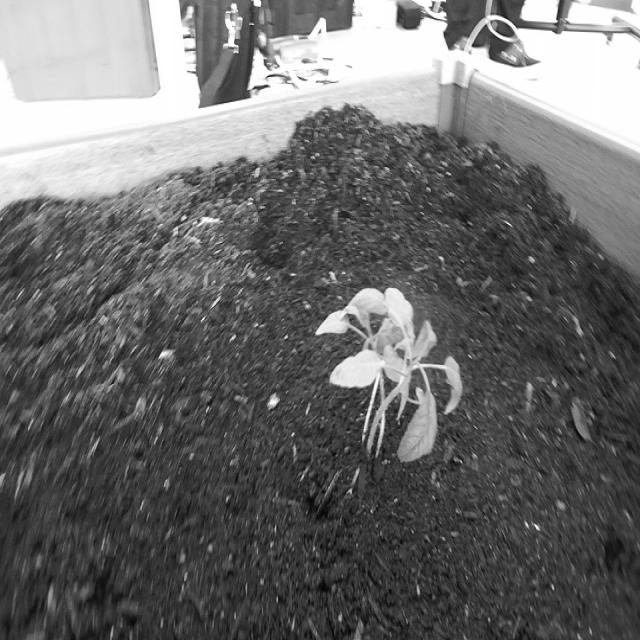Healthy: (307, 274, 468, 478)
